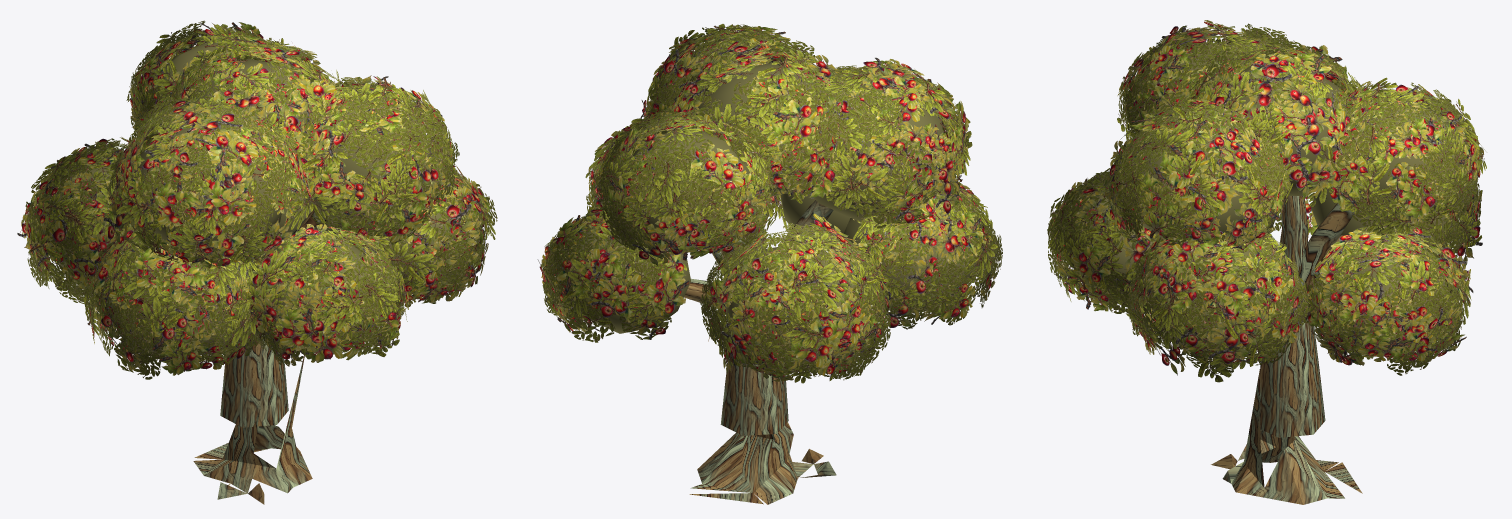
File: tree_apple_2.glb
The picture shows the model from 3 angles, left to right: view 1: azimuth 30°, elevation 25°; view 2: azimuth 150°, elevation 25°; view 3: azimuth 270°, elevation 25°; orthographic projection.
Visible parts, largest first — view 1: Leaves, Trunk, CrownCore; view 2: Leaves, Trunk, CrownCore; view 3: Leaves, Trunk, CrownCore.
Part boxes in pixels (x1,y1,x2,y2): Leaves: [17, 20, 497, 379]; Trunk: [193, 210, 327, 504]; CrownCore: [49, 42, 466, 359]; Leaves: [537, 24, 1002, 383]; Trunk: [684, 200, 836, 504]; CrownCore: [569, 49, 975, 373]; Leaves: [1047, 20, 1486, 382]; Trunk: [1211, 196, 1362, 504]; CrownCore: [1072, 45, 1463, 358].
Bounding box in the file's own units: 3.89 × 4.07 × 3.84.
3 materials, 2 textured.
